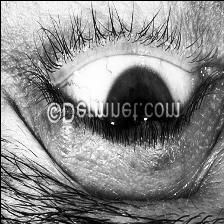Toxin: (144, 140, 172, 182)
